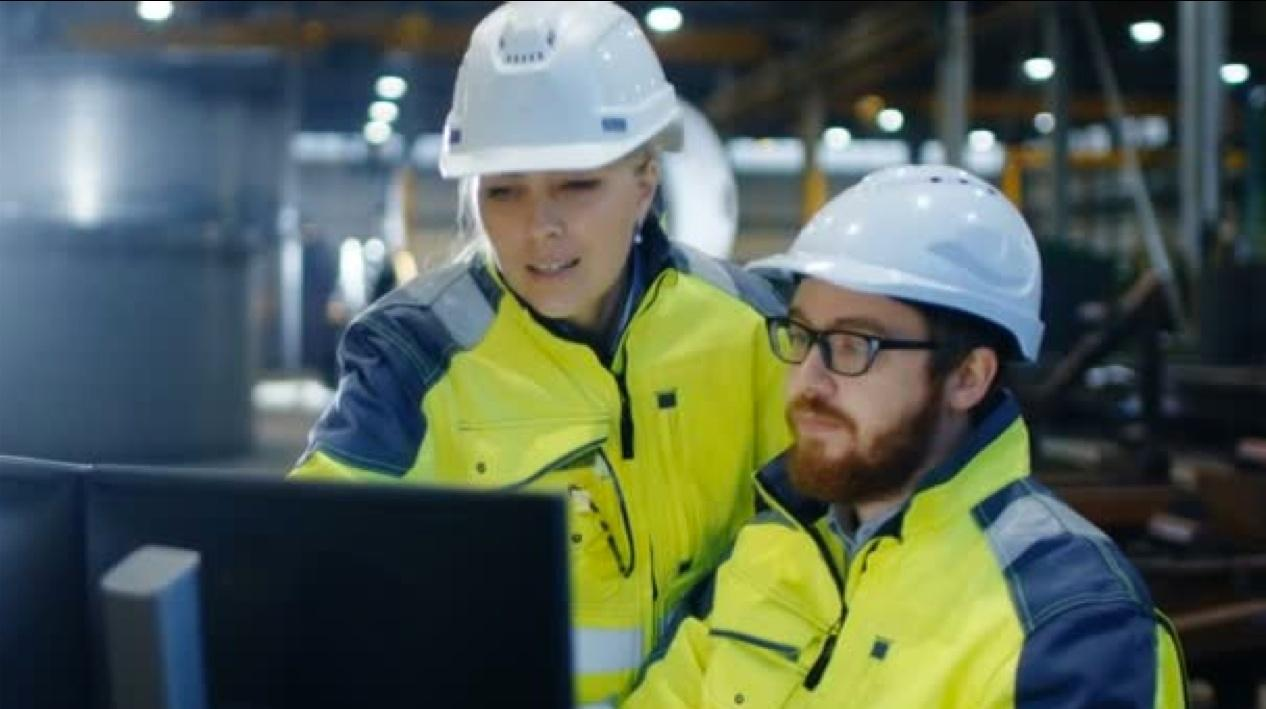helmet: (772, 171, 1049, 363), (447, 1, 690, 178)
